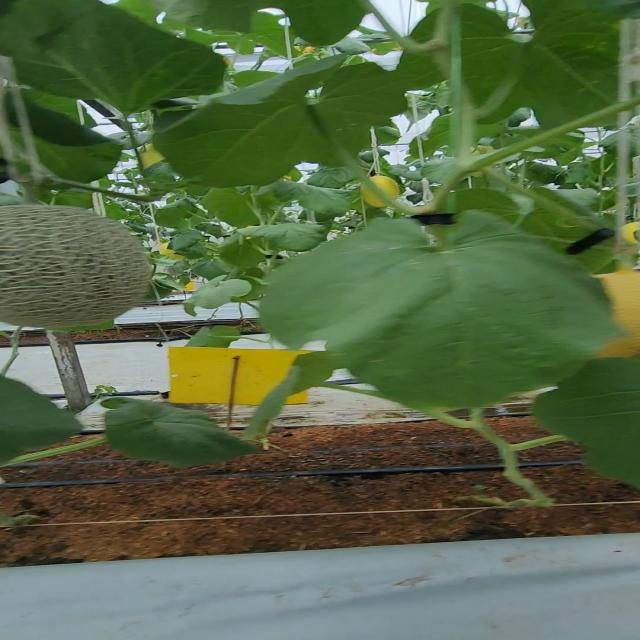Front-melon: (0, 204, 152, 328)
